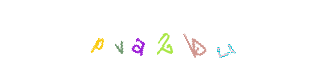2: (114, 0, 194, 80)
A: (114, 0, 194, 80)
B: (145, 0, 225, 80)
P: (58, 0, 138, 80)
U: (185, 0, 265, 80)
V: (98, 0, 178, 80)
